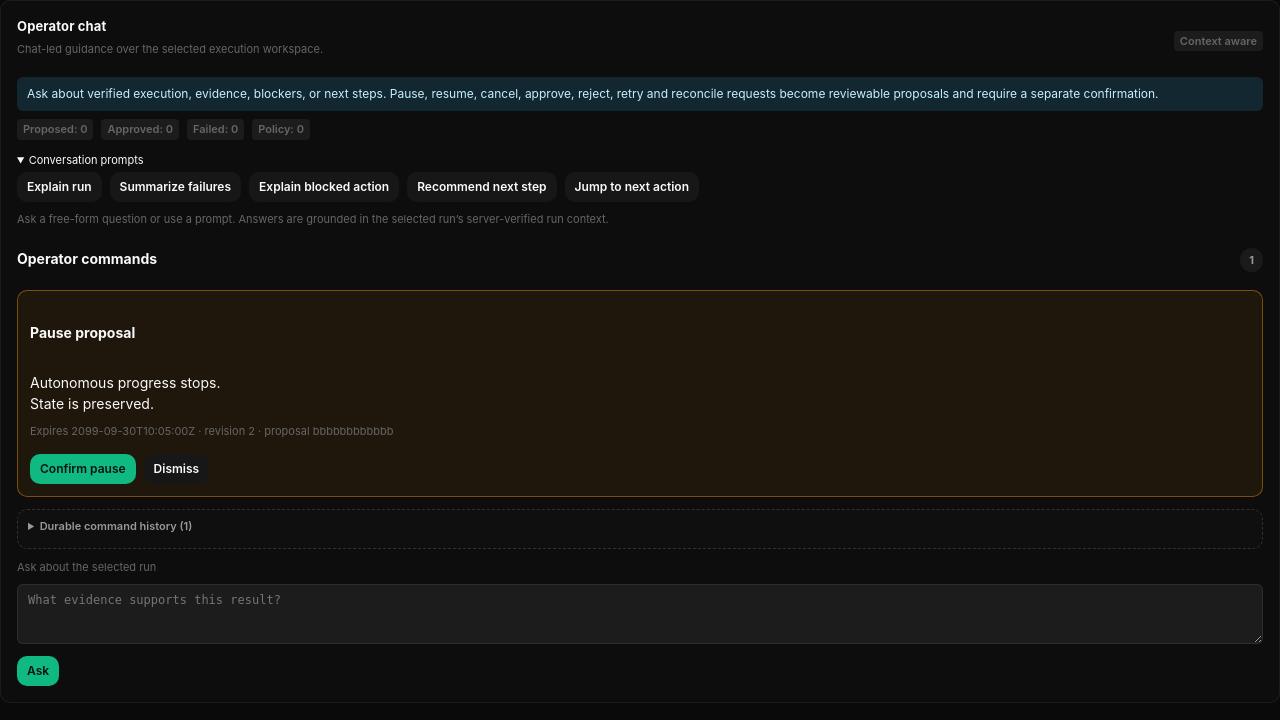
OperatorConsoleChat › restores a durable proposal without an in-memory conversation response
The width and height of the screenshot is (1280, 720).
Expected: the button "Confirm pause" is shown, [30,454,136,484]
Click the heading "Durable command history (1)": (116, 526) [40,519,192,533]
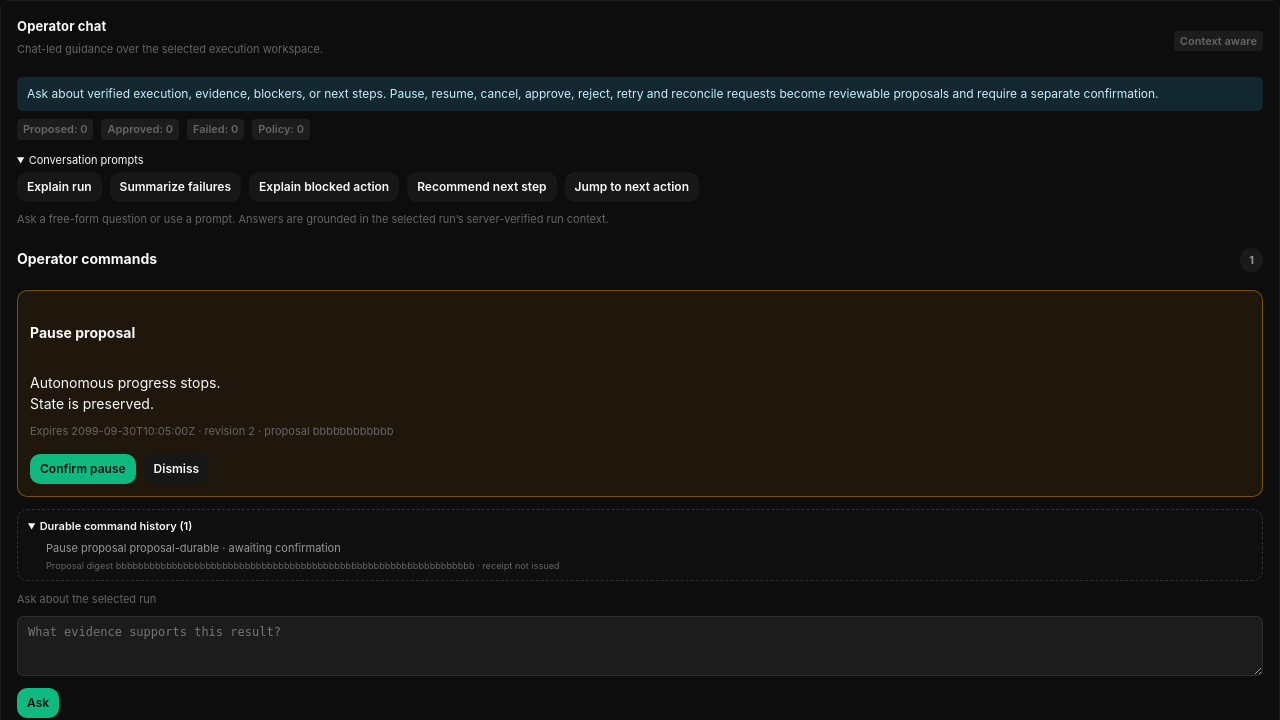
Expected: the text "Pause proposal proposal-durable · awaiting confirmation" is shown, [46,541,341,555]
